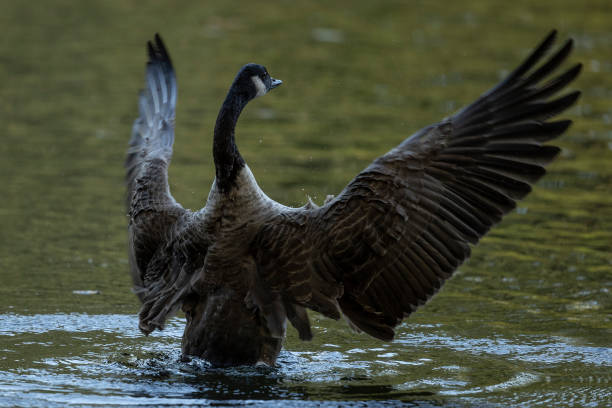goose: (119, 27, 582, 372)
